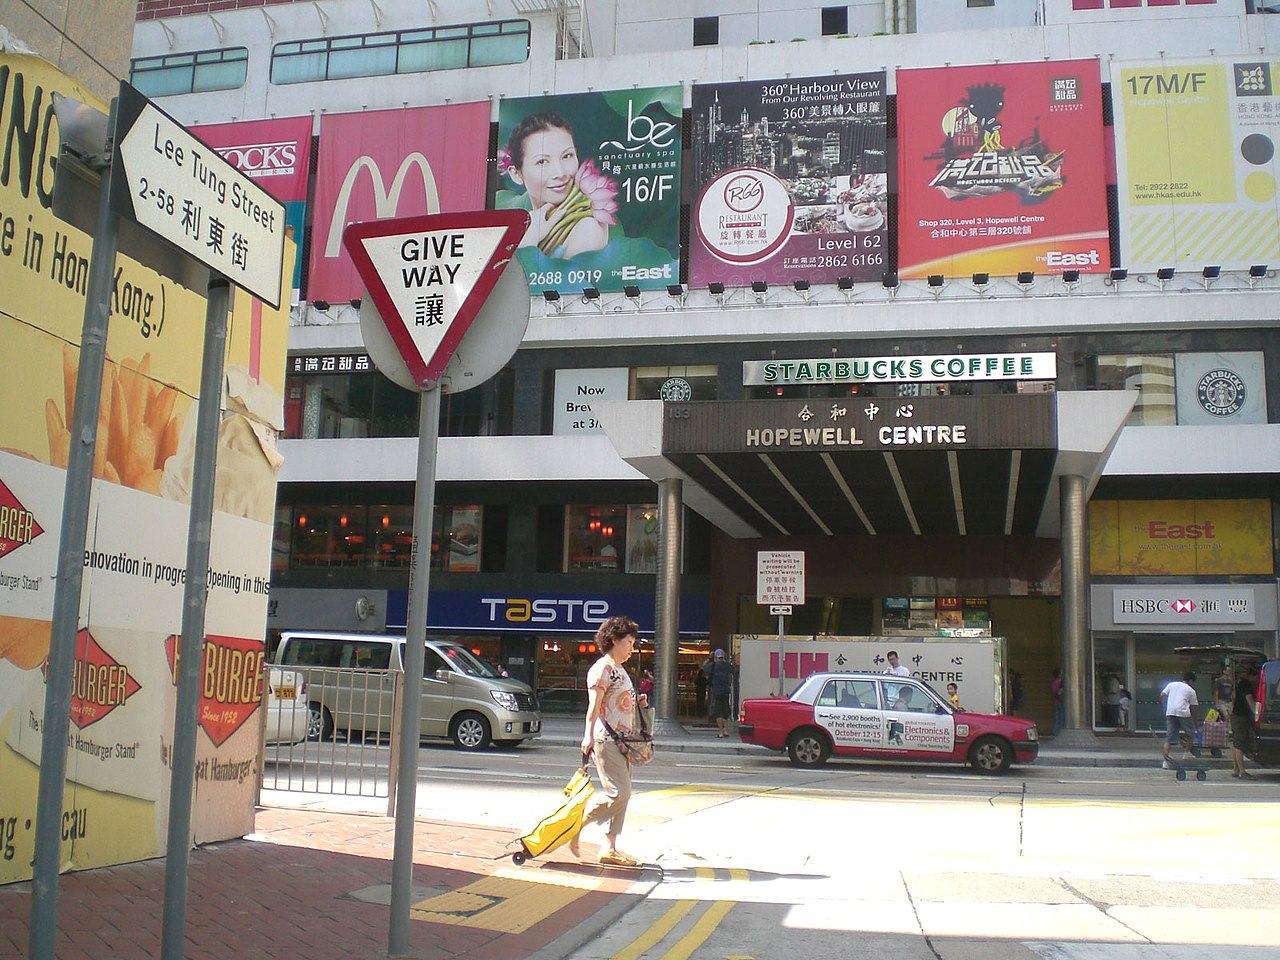Give Way: (337, 205, 530, 377)
